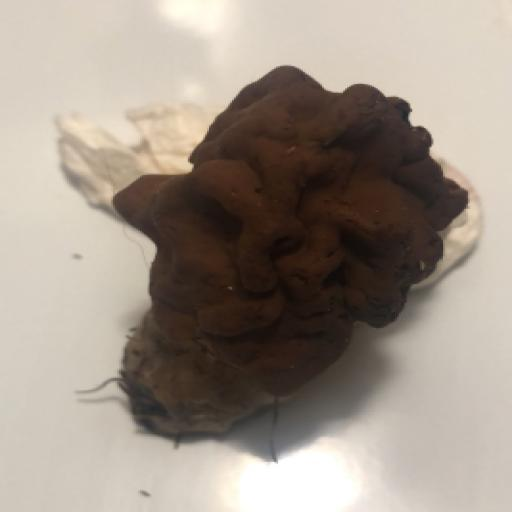mushroom: (15, 15, 508, 479)
